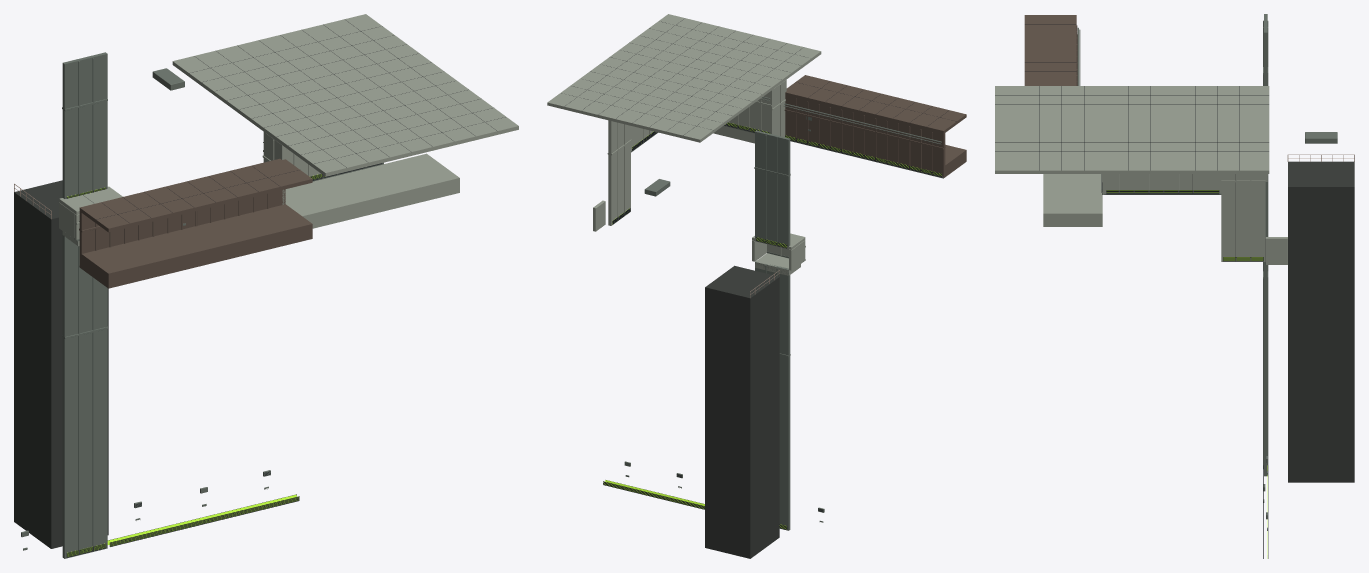
The picture shows the model from 3 angles, left to right: view 1: azimuth 30°, elevation 25°; view 2: azimuth 150°, elevation 25°; view 3: azimuth 270°, elevation 25°; orthographic projection. The views are drawn at different scales.
Parts seen in each view (by area): view 1: p0_m2; view 2: p0_m2; view 3: p0_m2.
Boxes of the visible parts, bbox=[...] form: p0_m2: bbox=[14, 14, 518, 558]; p0_m2: bbox=[547, 14, 966, 558]; p0_m2: bbox=[995, 14, 1354, 558].
Size of the model in its own units: 55 by 66 by 48.53.
